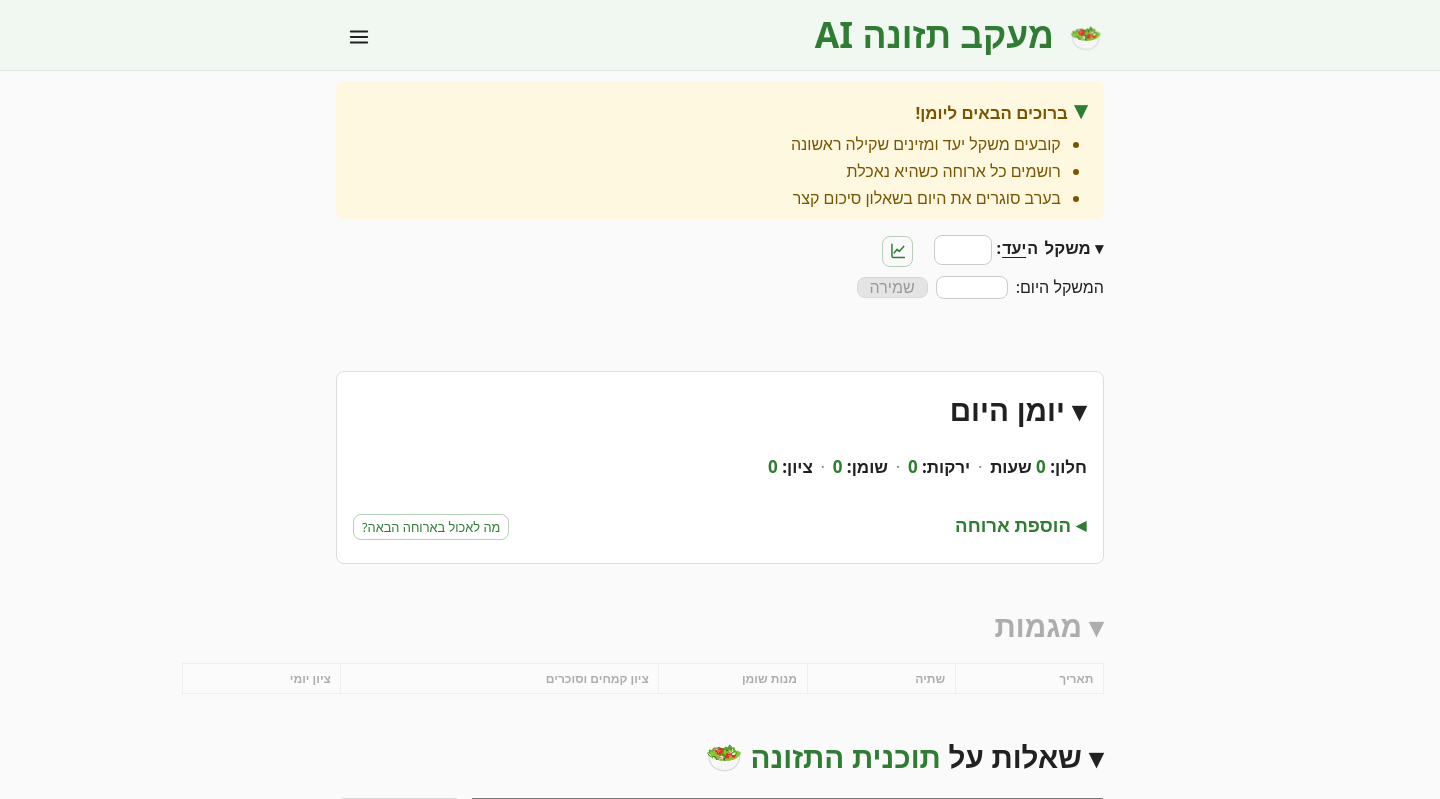
Test: App › condenses the weight and trends sections from the menu and opens them back full
Check: the button "יומן היום" is shown, box [949,388,1087,431]
Click the button named "תפריט חשבון" at x=359, y=37, box [336,13,382,60]
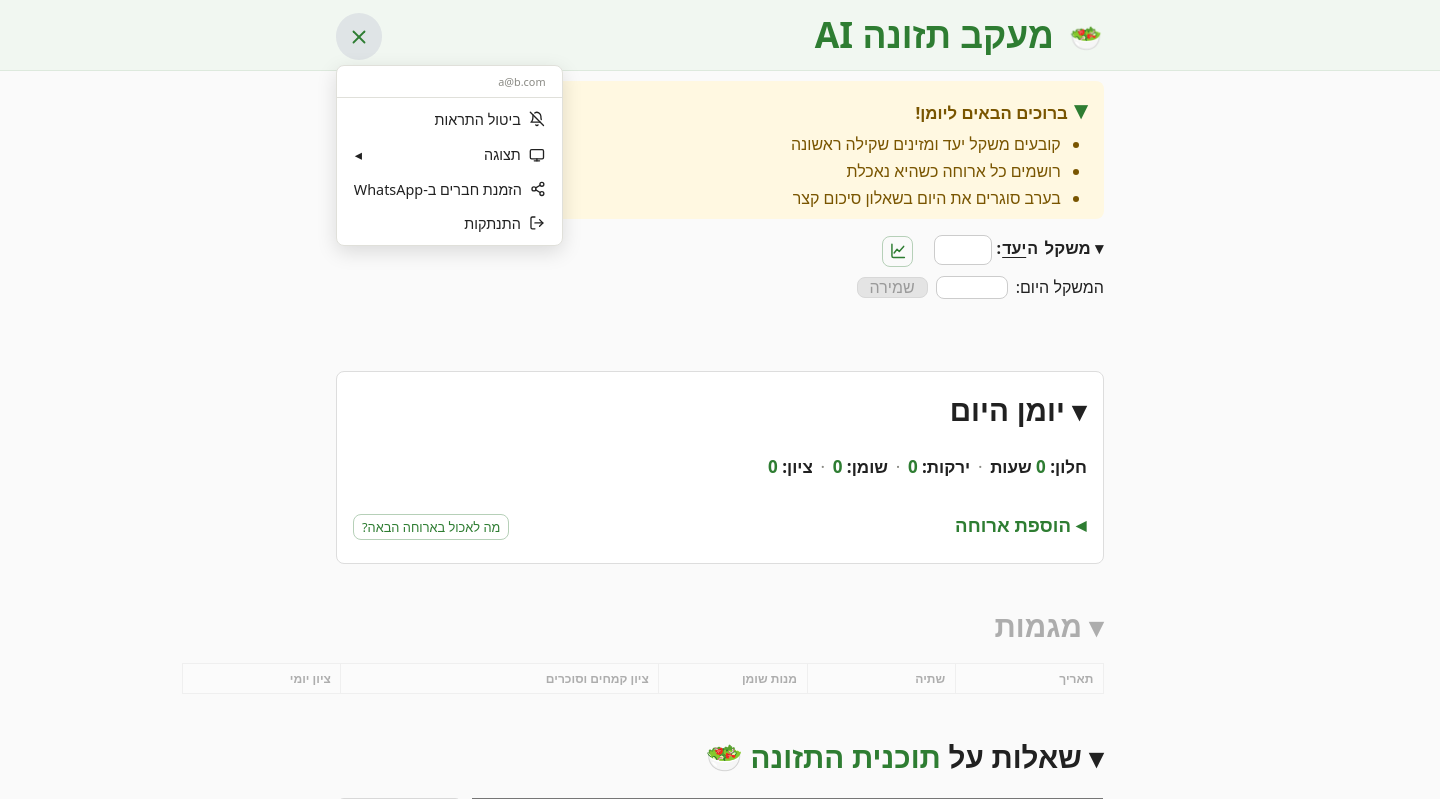
Click the menu item "תצוגה" at x=450, y=155, box [341,137,558,172]
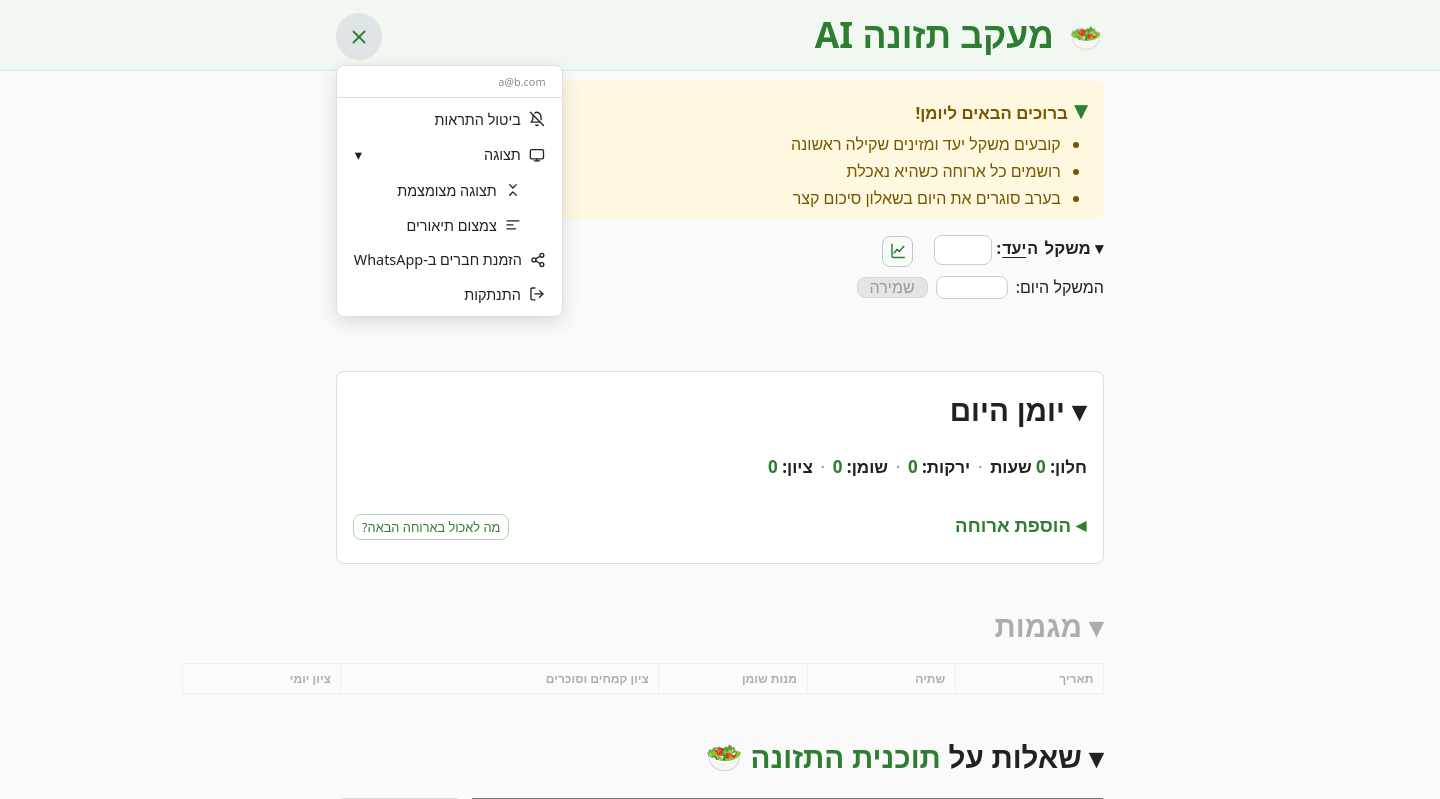
Click the menu item "תצוגה מצומצמת" at x=450, y=190, box [341,172,558,208]
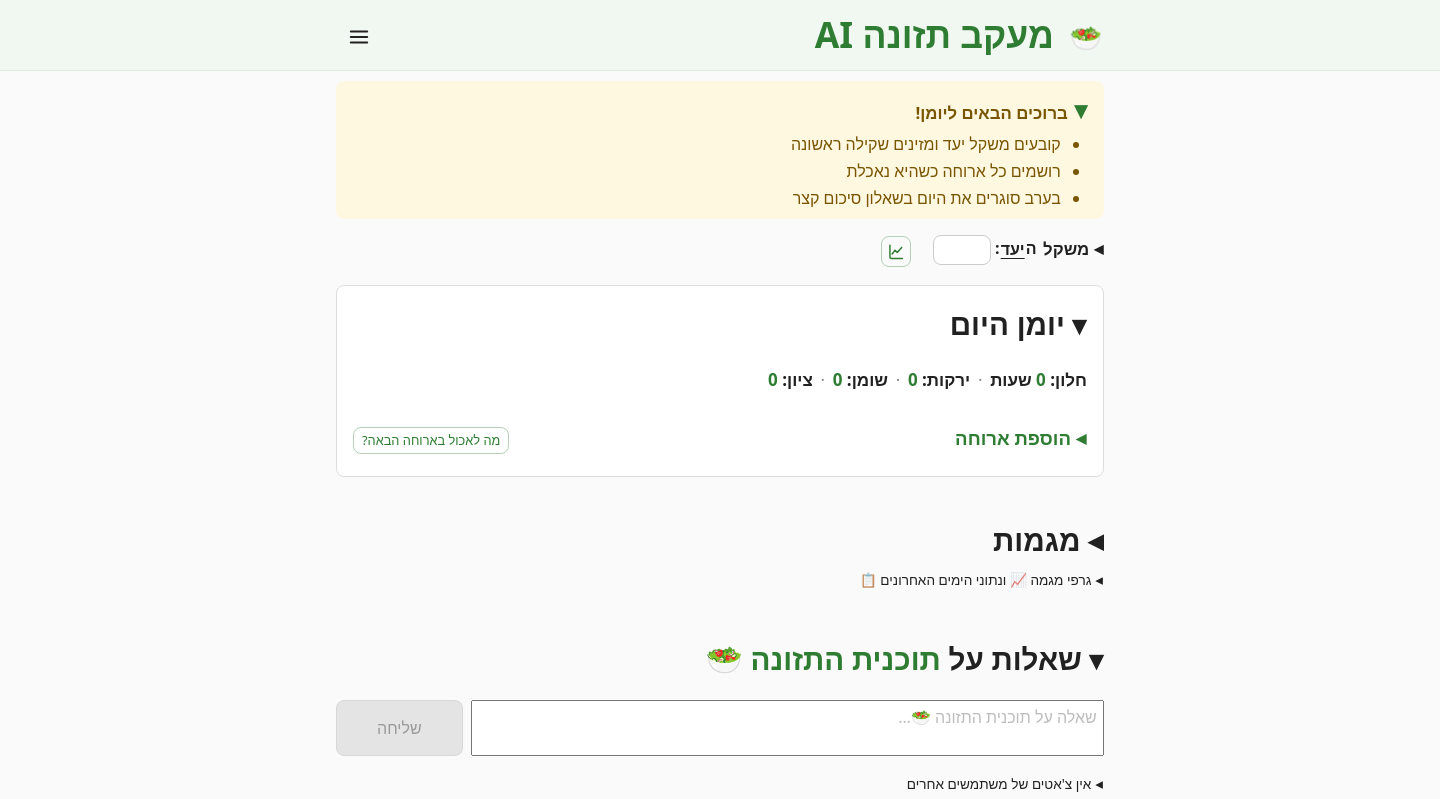
Check: the button "משקל" is collapsed, box [1042,234,1104,260]
Check: the button "מגמות" is collapsed, box [992,518,1104,561]
Click the button named "תפריט חשבון" at x=359, y=37, box [336,13,382,60]
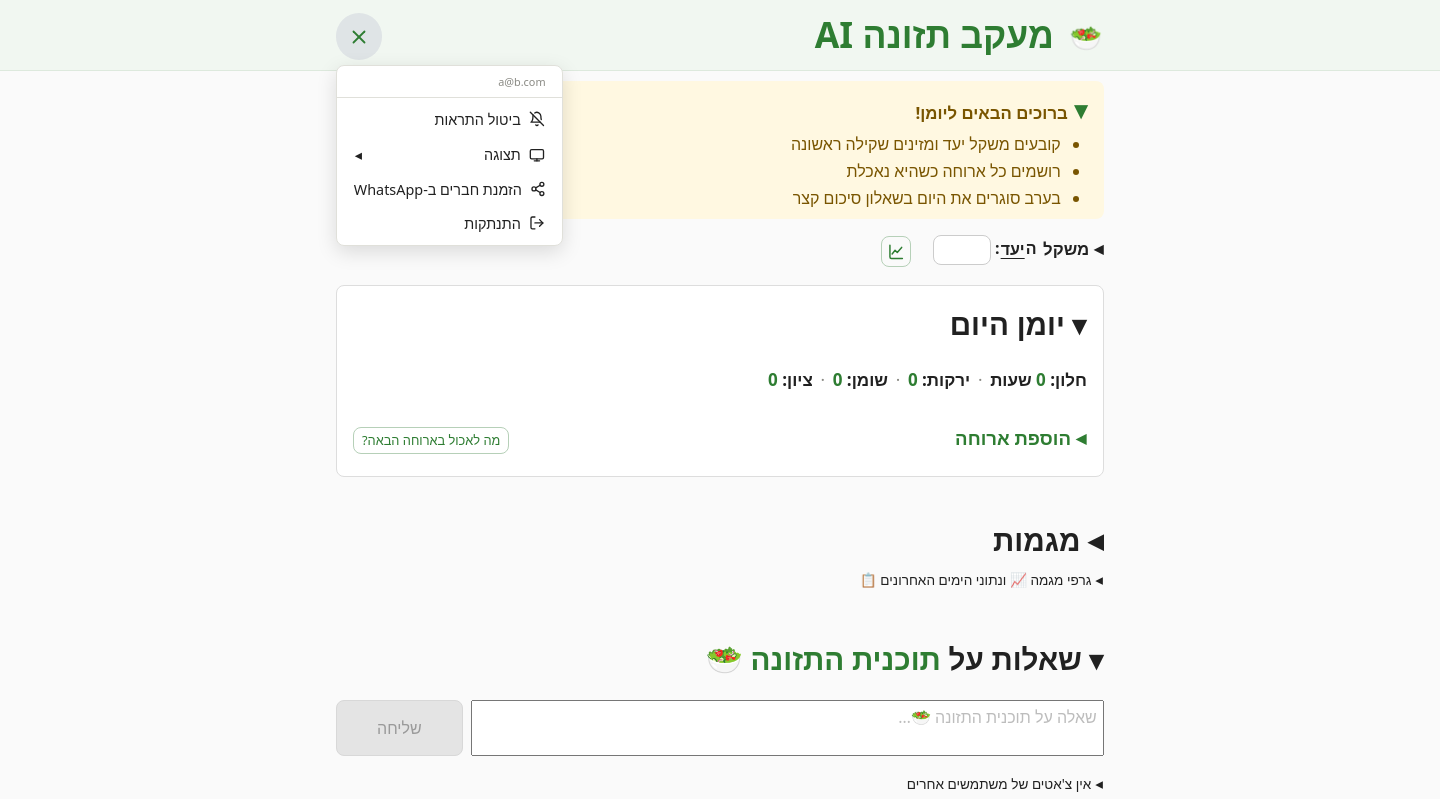
Click the menu item "תצוגה" at x=450, y=155, box [341,137,558,172]
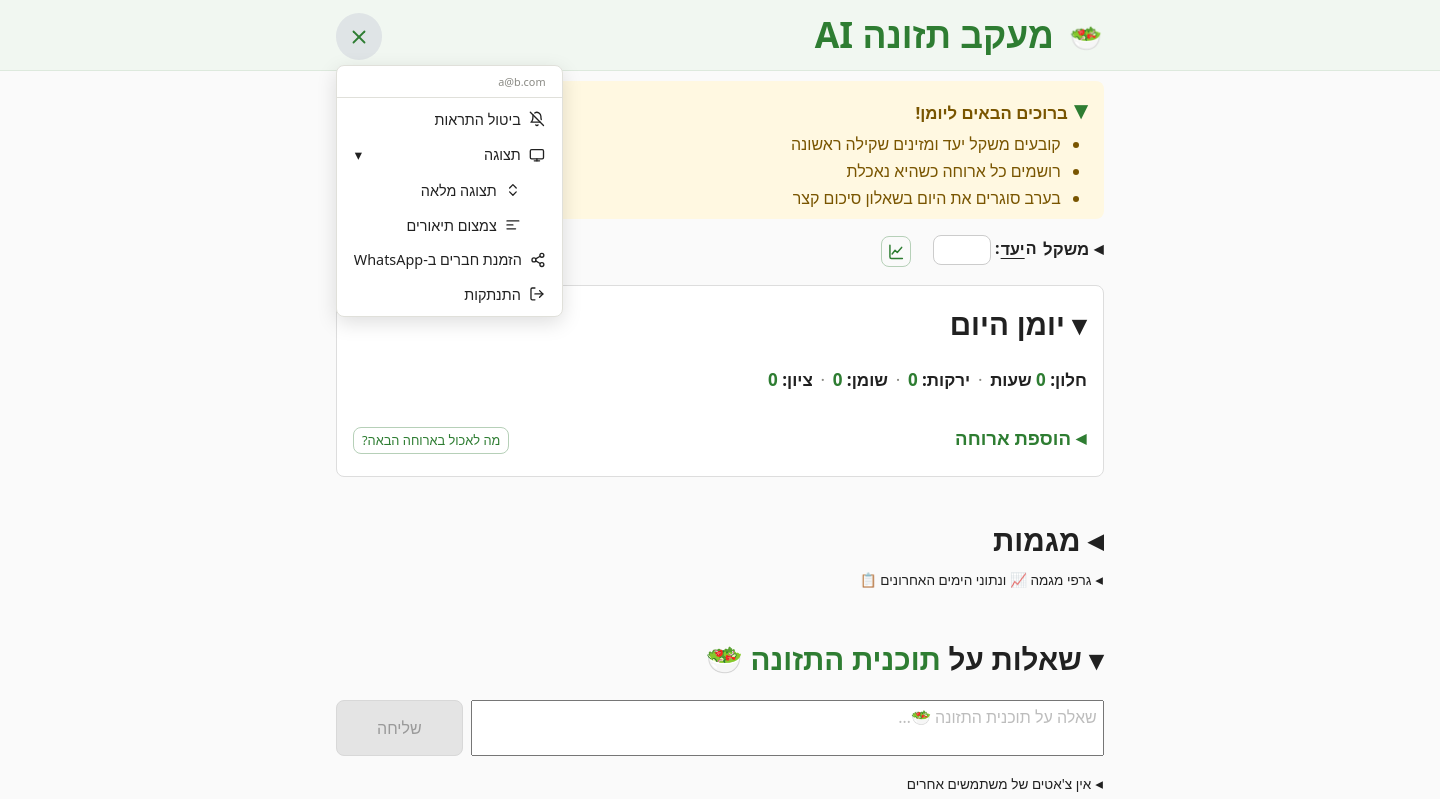
Click the menu item "תצוגה מלאה" at x=450, y=190, box [341,172,558,208]
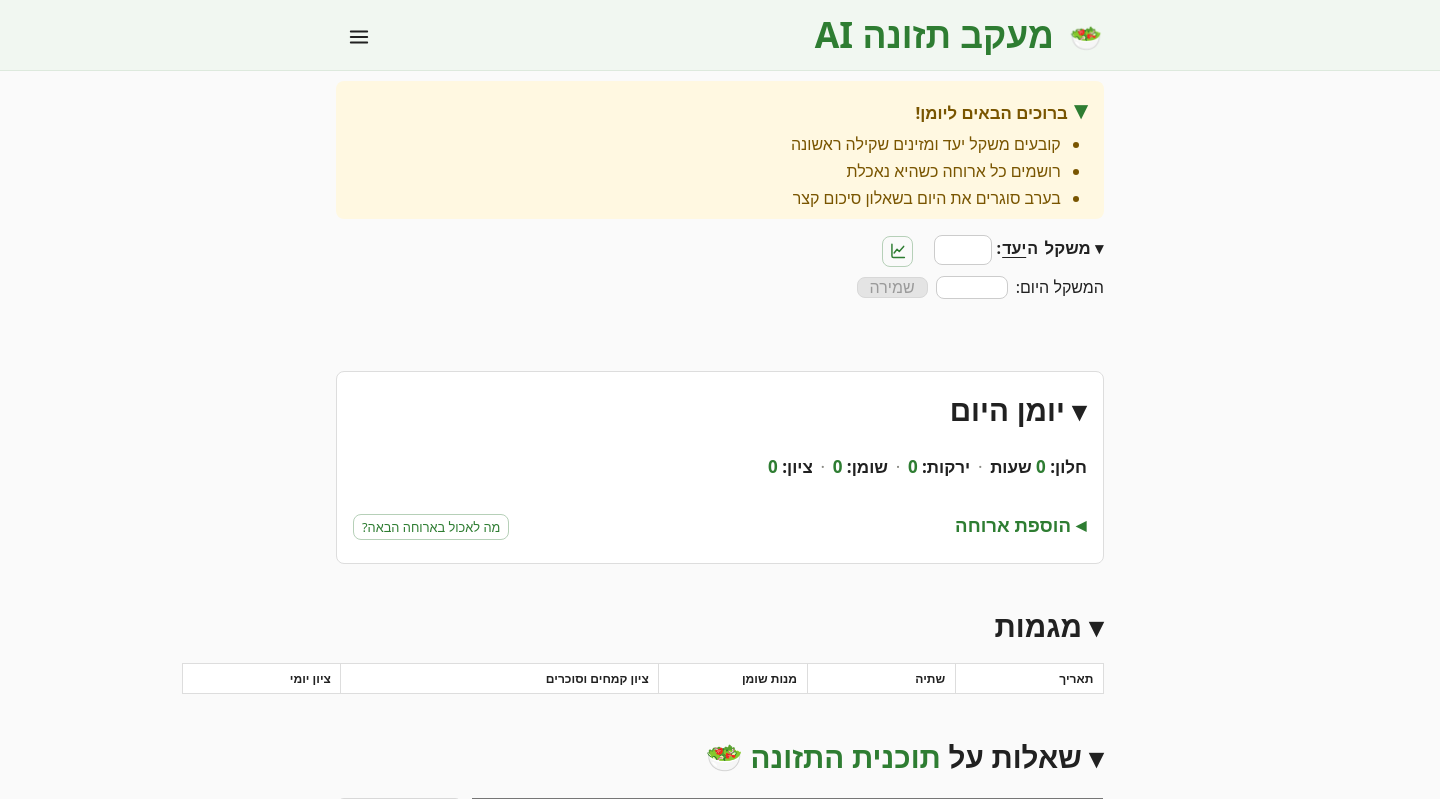
Check: the button "משקל" is expanded, box [1044,235,1104,260]
Check: the button "מגמות" is expanded, box [994,604,1104,647]
